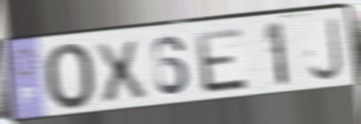1: (263, 19, 290, 91)
6: (151, 34, 191, 98)
E: (193, 26, 252, 96)
J: (307, 15, 346, 84)
O: (41, 41, 96, 113)
X: (91, 38, 151, 106)
